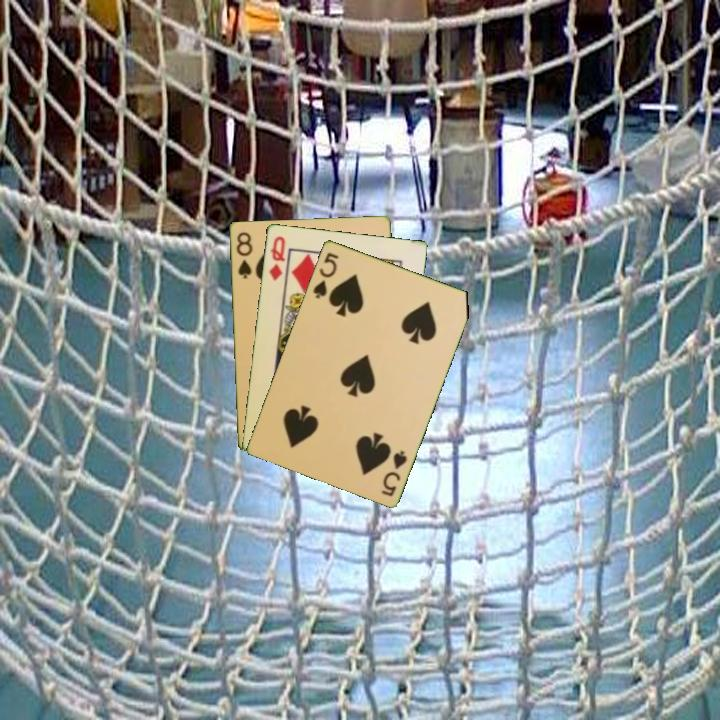5s: (309, 248, 341, 301), (378, 446, 410, 499)
8s: (233, 228, 255, 281)
Qd: (265, 232, 288, 283)
